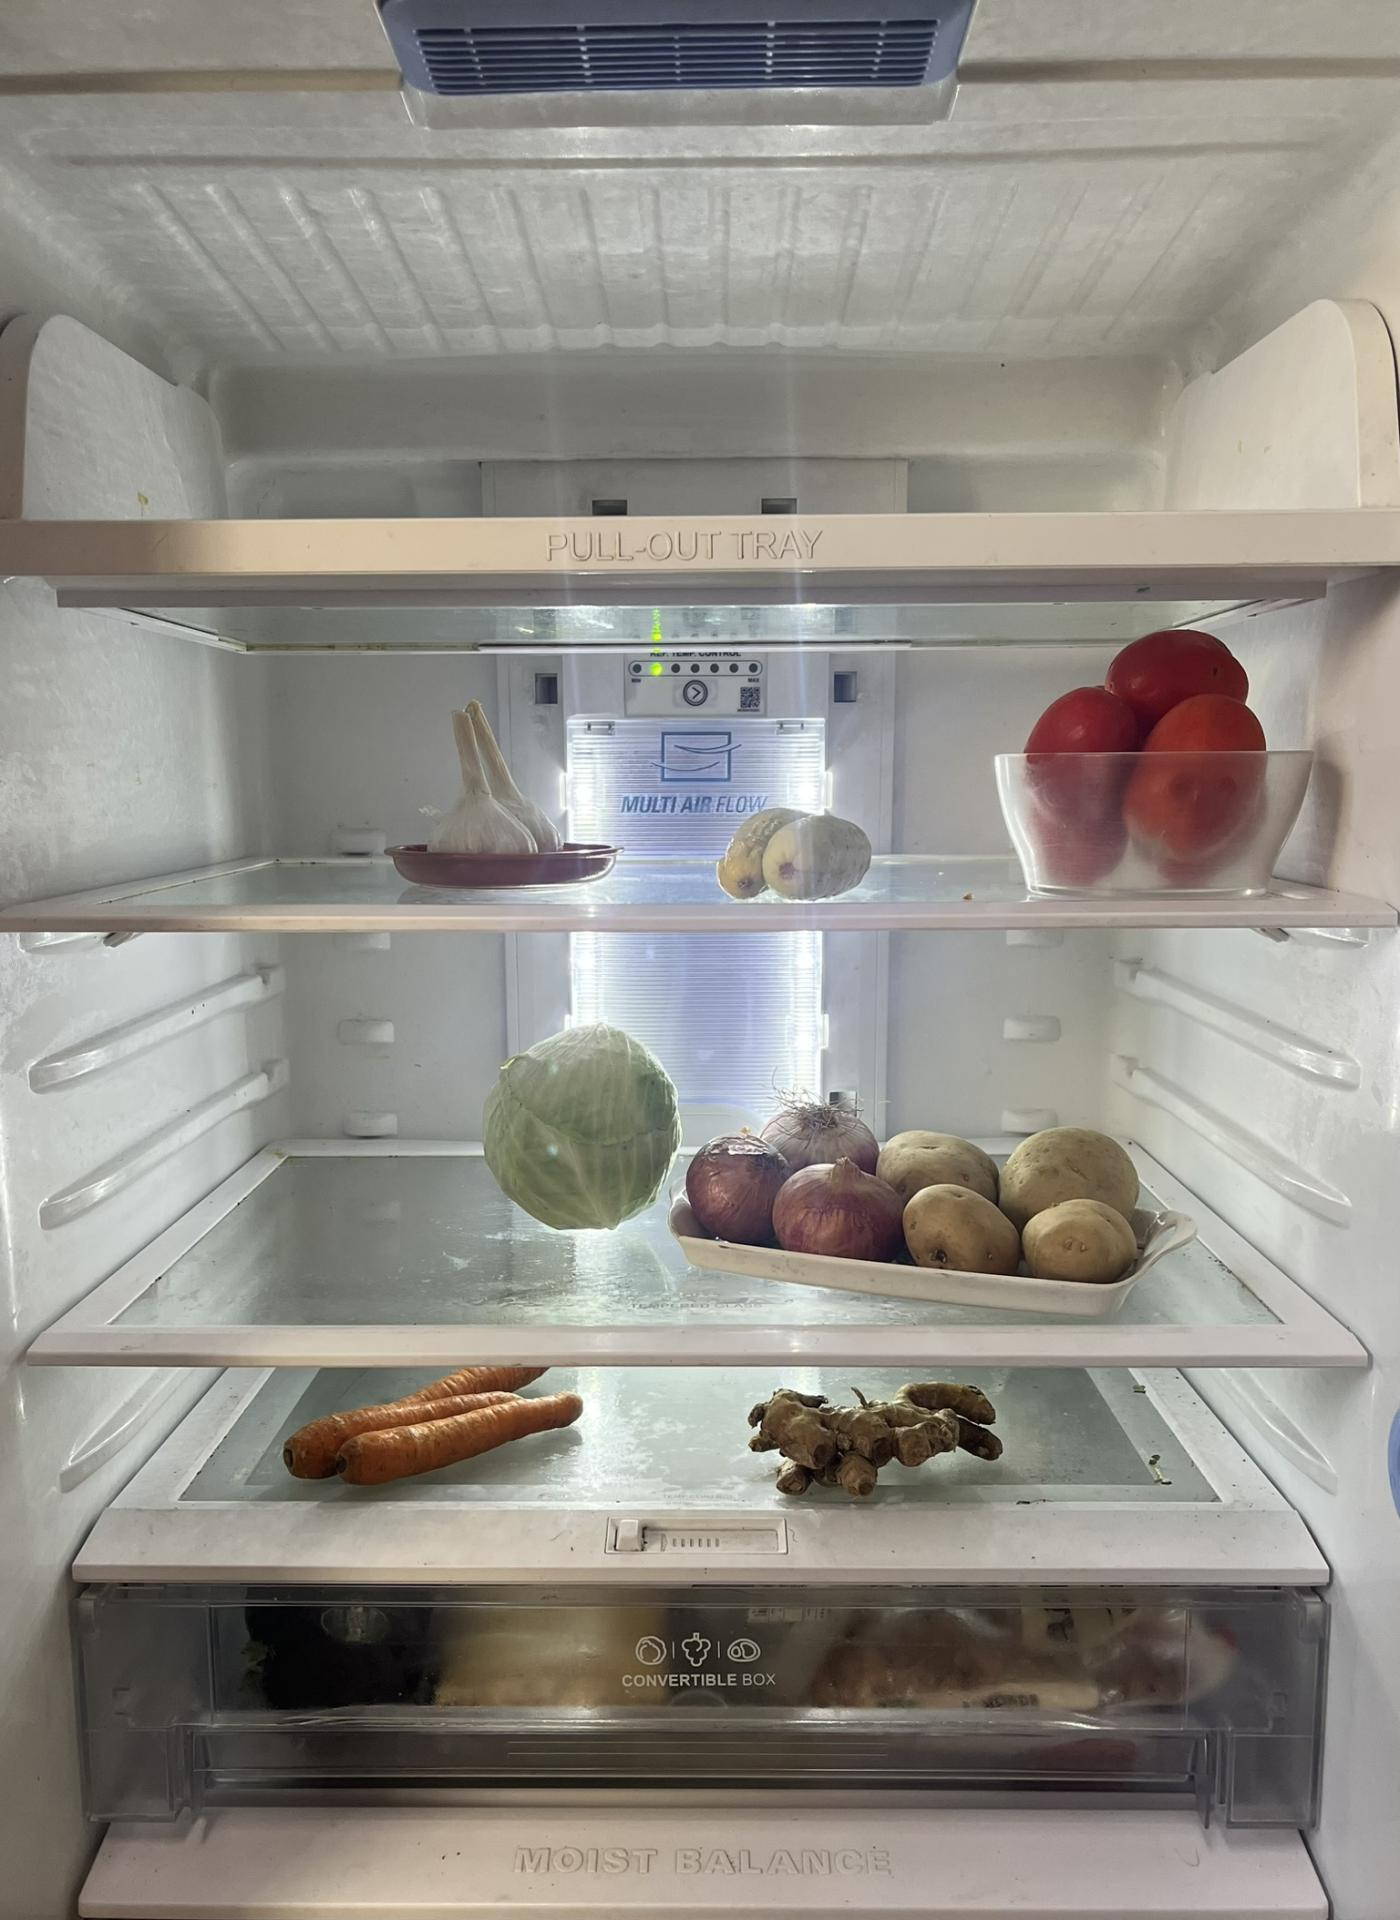cabbage: (480, 1020, 684, 1225)
carrots: (282, 1368, 583, 1482)
cucumber: (723, 809, 872, 915)
garlic: (438, 698, 559, 850)
ginger: (753, 1379, 1002, 1494)
onion: (690, 1091, 899, 1263)
potato: (887, 1125, 1136, 1288)
tomato: (1021, 628, 1273, 869)
